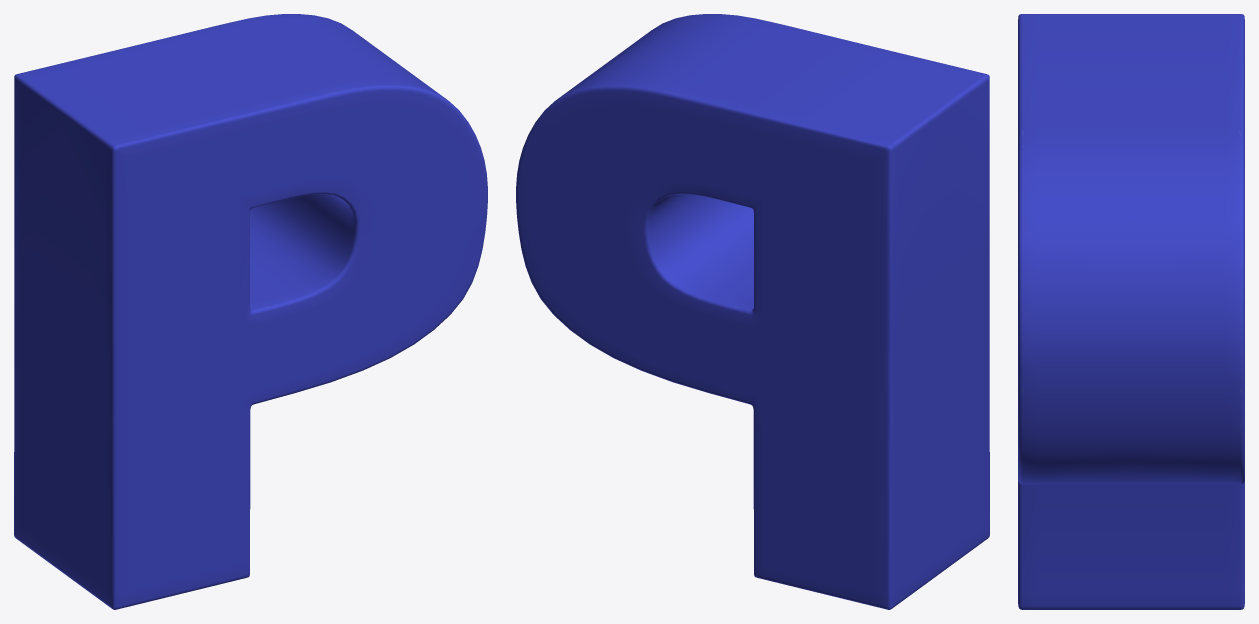
Rendered from modelP.glb.
3 views of the same model, side by side, from view 1: azimuth 30°, elevation 25°; view 2: azimuth 150°, elevation 25°; view 3: azimuth 270°, elevation 25° (orthographic). The views are drawn at different scales.
Visible parts, largest first — view 1: node_id122_1; view 2: node_id122_1; view 3: node_id122_1.
Boxes of the visible parts, x1,y1,x2,y2 form: node_id122_1: [14, 14, 487, 609]; node_id122_1: [516, 14, 989, 609]; node_id122_1: [1018, 14, 1244, 609].
Bounding box in the file's own units: 0.434 × 0.512 × 0.2012.
Materials: 1 (1 with a texture image).
